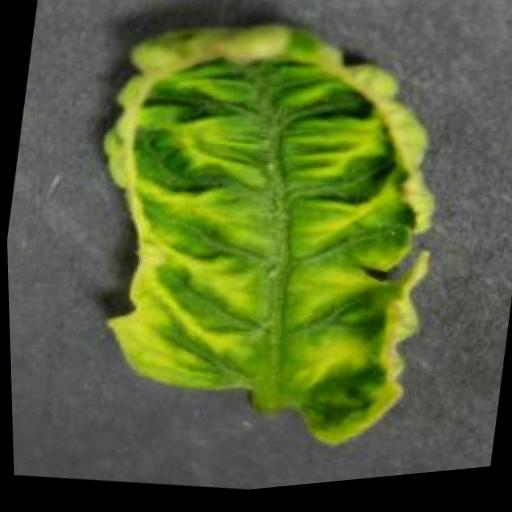Yellow Leaf Curl Virus: (55, 0, 471, 484)
